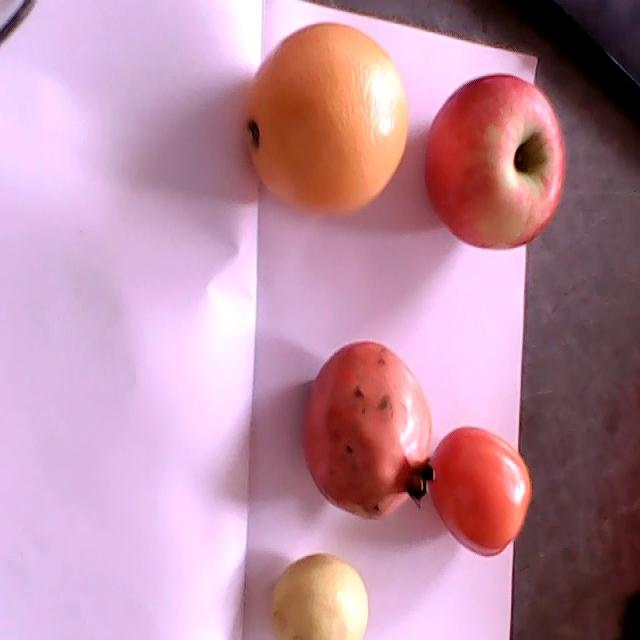apple: (424, 74, 564, 249)
lemon: (272, 554, 369, 639)
orange: (244, 25, 408, 215)
pomegranate: (302, 342, 435, 520)
tomato: (427, 427, 532, 557)
